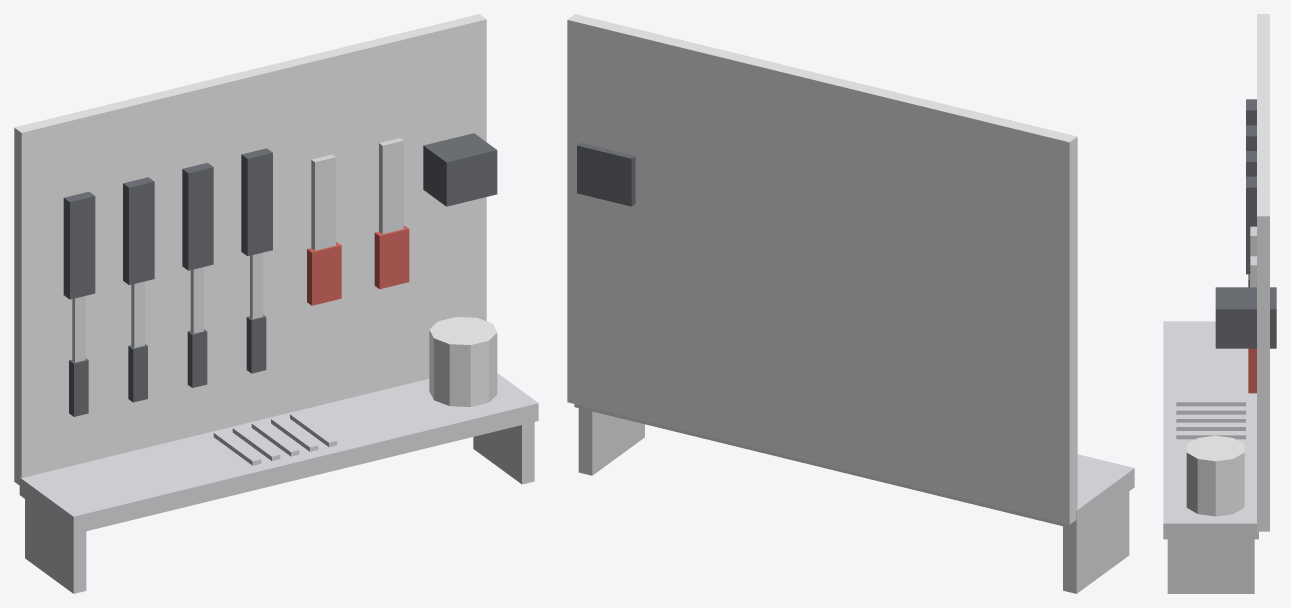
File: vertical-farm-and-hydroponics-tower-vertical-farm-and--10af5e96__38385.glb
The picture shows the model from 3 angles, left to right: view 1: azimuth 30°, elevation 25°; view 2: azimuth 150°, elevation 25°; view 3: azimuth 270°, elevation 25°; orthographic projection. The views are drawn at different scales.
Visible parts, largest first — view 1: vertical-farm-and-hydroponics-tower-hand-tool-rack; view 2: vertical-farm-and-hydroponics-tower-hand-tool-rack; view 3: vertical-farm-and-hydroponics-tower-hand-tool-rack.
Part boxes in pixels (x1=…): vertical-farm-and-hydroponics-tower-hand-tool-rack: x1=14, y1=14, x2=538, y2=593; vertical-farm-and-hydroponics-tower-hand-tool-rack: x1=567, y1=14, x2=1134, y2=593; vertical-farm-and-hydroponics-tower-hand-tool-rack: x1=1163, y1=14, x2=1276, y2=593.
Size of the model in its own units: 1.1 by 0.96 by 0.26.
